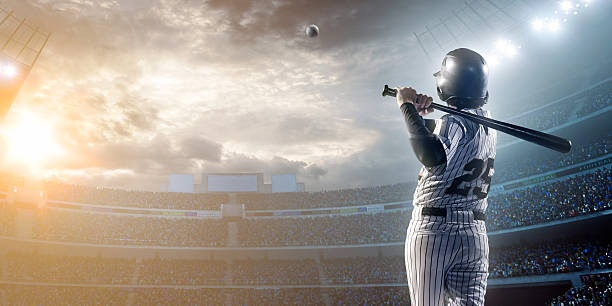bita: (379, 81, 576, 155)
